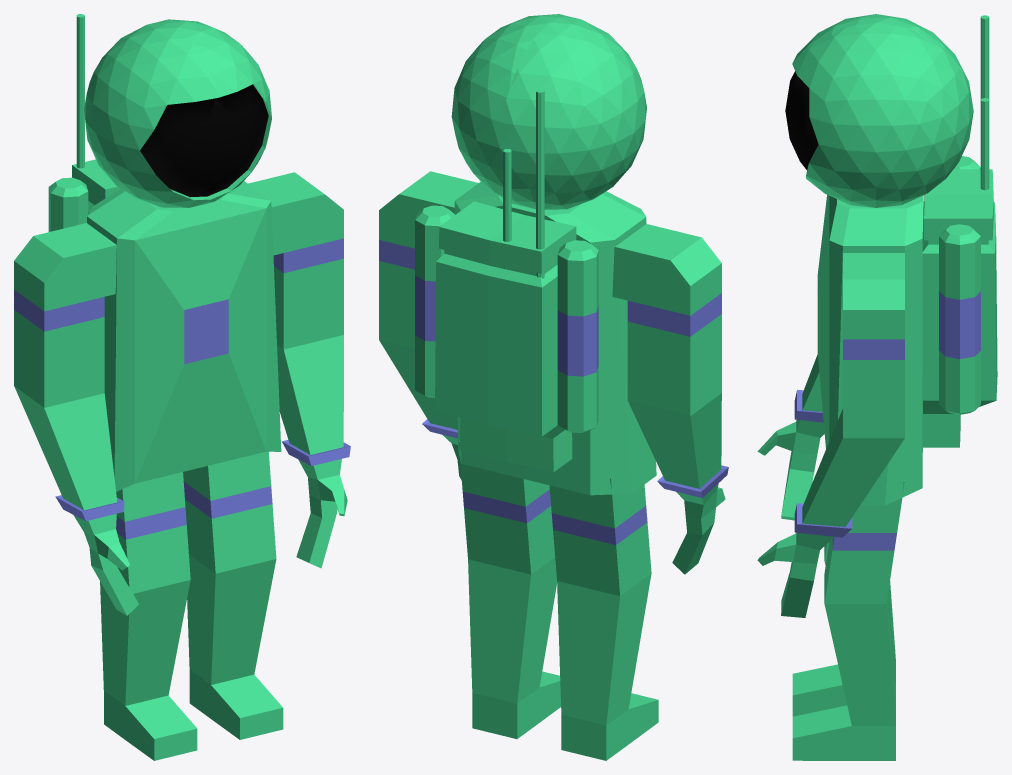
Rendered from Astronaut_Turquois.fbx.
3 views of the same model, side by side, from view 1: azimuth 30°, elevation 25°; view 2: azimuth 150°, elevation 25°; view 3: azimuth 270°, elevation 25° (orthographic). The views are drawn at different scales.
Parts seen in each view (by area): view 1: Cube, Icosphere; view 2: Cube, Icosphere; view 3: Cube, Icosphere.
Part boxes in pixels (bbox=[...]): Cube: bbox=[14, 14, 350, 760]; Icosphere: bbox=[84, 19, 271, 207]; Cube: bbox=[379, 89, 728, 760]; Icosphere: bbox=[451, 14, 646, 209]; Cube: bbox=[757, 15, 997, 760]; Icosphere: bbox=[785, 14, 973, 207].
Size of the model in its own units: 303 by 665 by 205.
